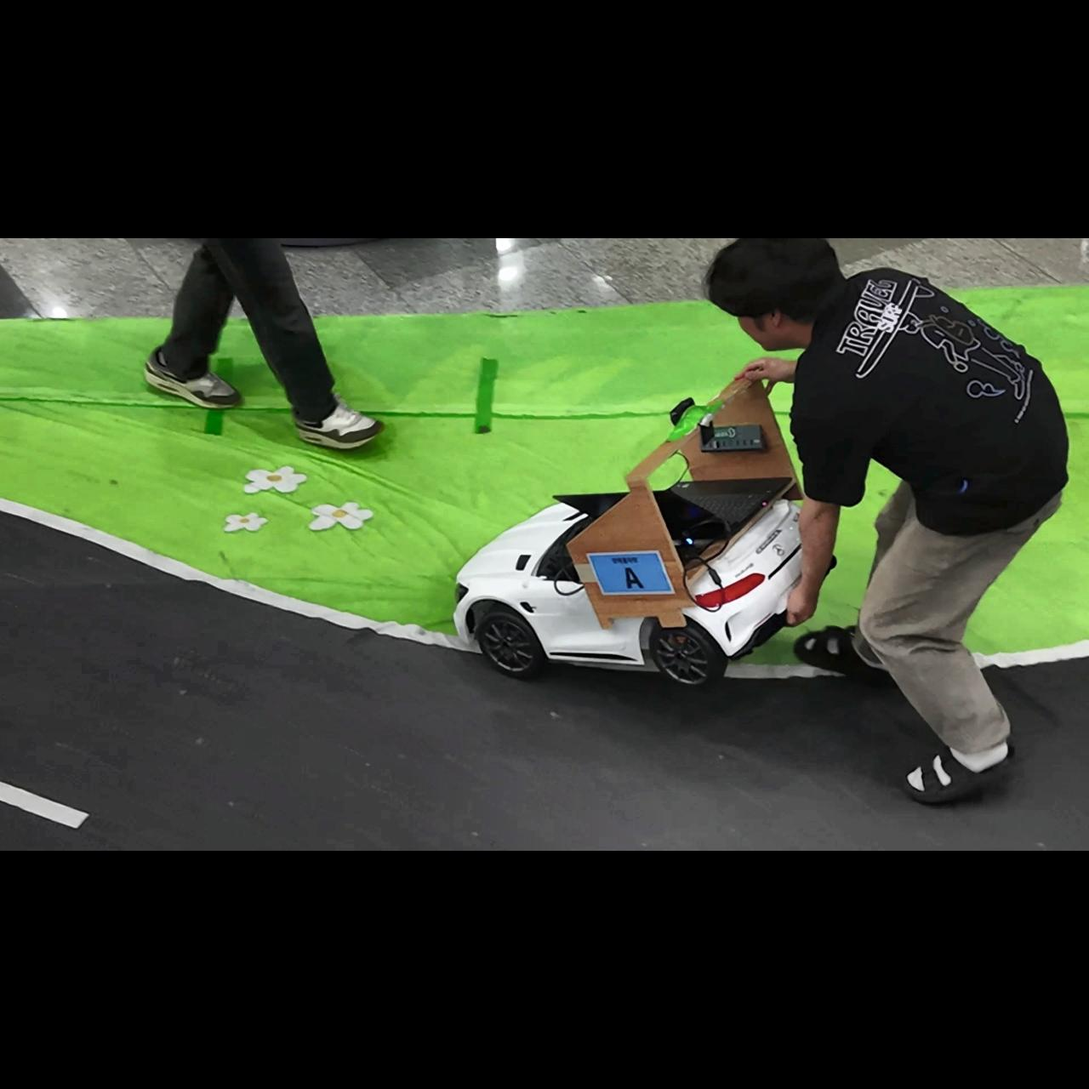broken_line: (0, 781, 90, 829)
